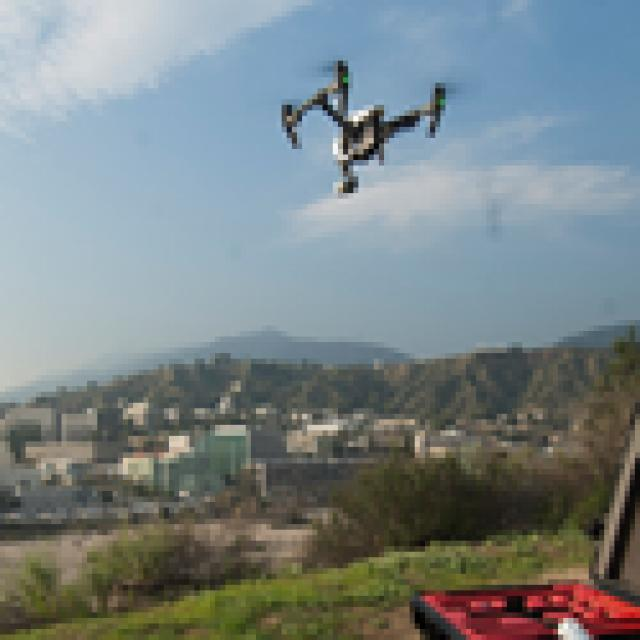drone: (251, 44, 461, 204)
